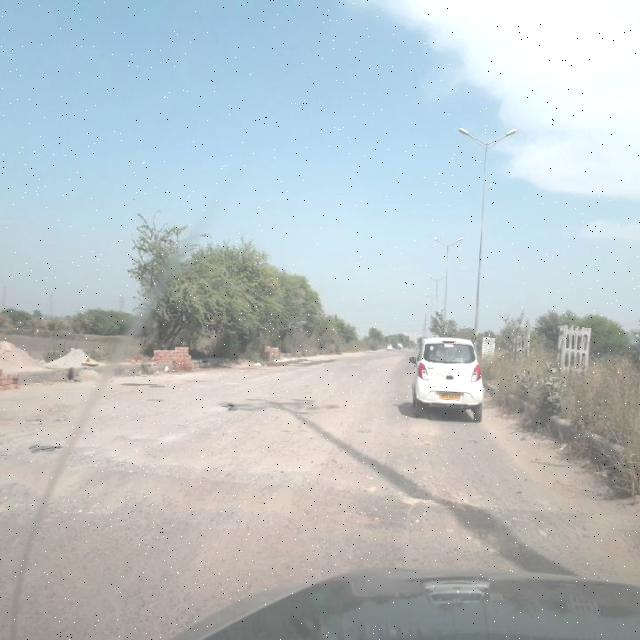D40: (0, 460, 142, 526)
